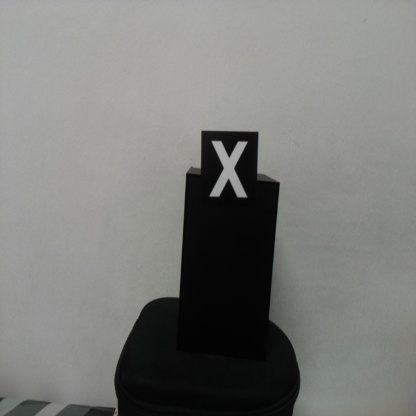id_13: (201, 132, 260, 216)
